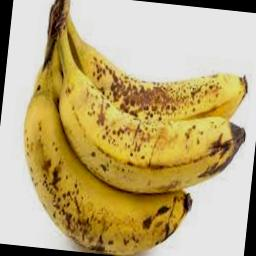Banana Overripe: (6, 81, 250, 256), (50, 16, 256, 130)
Banana Unripe: (46, 61, 252, 203)
